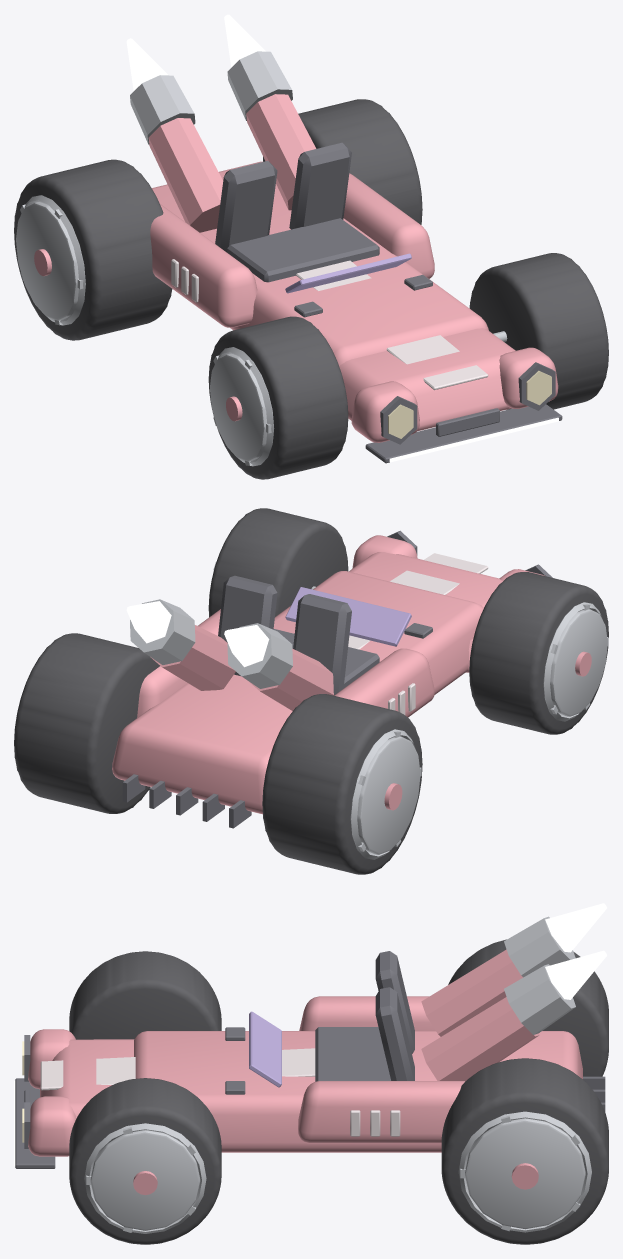
Rendered from zero_g_zipper.fbx.
3 views of the same model, one above another, from view 1: azimuth 30°, elevation 25°; view 2: azimuth 150°, elevation 25°; view 3: azimuth 270°, elevation 25° (orthographic).
Parts seen in each view (by area): view 1: Body, Trim, Metal, Wheel_RR, Wheel_FL, Wheel_FR, Wheel_RL, Accent, Light2, Light, Glass; view 2: Body, Wheel_RL, Wheel_RR, Metal, Wheel_FR, Trim, Wheel_FL, Light2, Glass, Accent; view 3: Body, Metal, Wheel_RL, Trim, Wheel_FL, Wheel_FR, Wheel_RR, Accent, Light2, Glass.
Part boxes in pixels (<box>): Body: <box>34,94,558,442</box>; Trim: <box>215,142,562,463</box>; Metal: <box>16,51,608,466</box>; Wheel_RR: <box>14,159,172,340</box>; Wheel_FL: <box>469,253,608,409</box>; Wheel_FR: <box>208,316,348,479</box>; Wheel_RL: <box>263,99,422,224</box>; Accent: <box>171,259,488,390</box>; Light2: <box>126,14,558,462</box>; Light: <box>388,370,551,438</box>; Glass: <box>285,253,411,293</box>; Body: <box>112,535,591,814</box>; Wheel_RL: <box>14,633,159,813</box>; Wheel_RR: <box>262,694,422,874</box>; Metal: <box>130,561,608,859</box>; Wheel_FR: <box>469,572,608,734</box>; Trim: <box>122,530,552,828</box>; Wheel_FL: <box>208,508,348,617</box>; Light2: <box>126,601,269,667</box>; Glass: <box>285,587,411,646</box>; Accent: <box>348,553,488,714</box>; Body: <box>28,949,582,1195</box>; Metal: <box>84,916,591,1233</box>; Wheel_RL: <box>441,1058,608,1244</box>; Trim: <box>15,951,605,1168</box>; Wheel_FL: <box>69,1078,221,1244</box>; Wheel_FR: <box>69,951,221,1039</box>; Wheel_RR: <box>448,939,608,1076</box>; Accent: <box>40,1048,400,1136</box>; Light2: <box>14,903,606,1166</box>; Glass: <box>249,1011,281,1087</box>.
Bounding box in the file's own units: 3.84 × 2.49 × 5.6.
